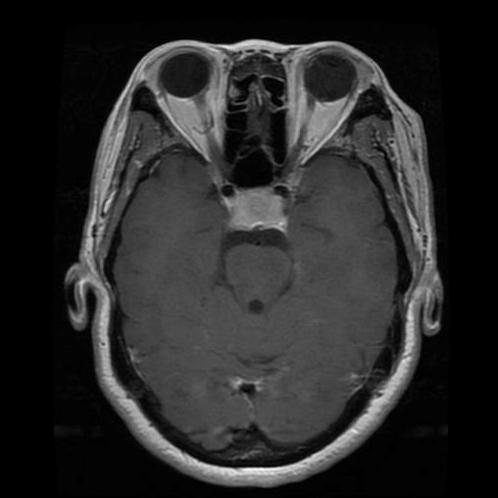Tumour-Pituitary: (216, 180, 298, 240)
